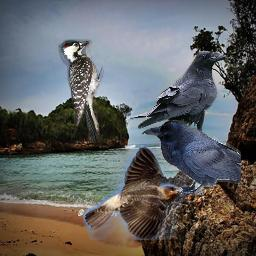Crow: (131, 51, 228, 145), (142, 120, 241, 194)
Swallow: (83, 145, 188, 240)
Woodpecker: (57, 39, 106, 143)
